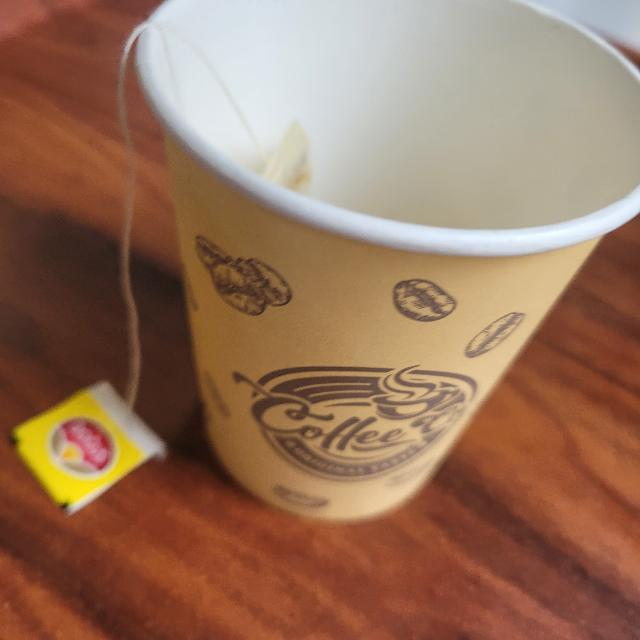Kagit: (109, 0, 640, 535)
